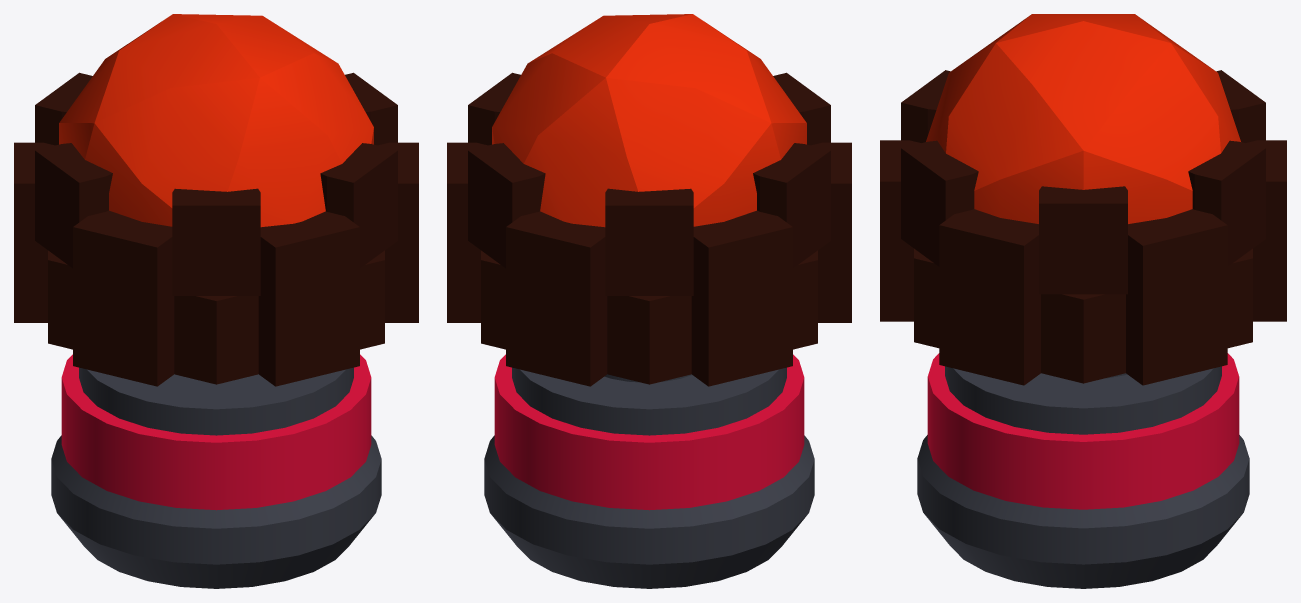
The model's file is tower_the_burning_stone.obj.
The picture shows the model from 3 angles, left to right: view 1: azimuth 30°, elevation 25°; view 2: azimuth 150°, elevation 25°; view 3: azimuth 270°, elevation 25°; orthographic projection.
Visible parts, largest first — view 1: mergedBlocks; view 2: mergedBlocks; view 3: mergedBlocks.
Boxes of the visible parts, box(x1,y1,x2,y2) form: mergedBlocks: box(14, 14, 418, 588); mergedBlocks: box(447, 14, 851, 588); mergedBlocks: box(880, 14, 1286, 588).
Bounding box in the file's own units: 1.16 × 1.62 × 1.18.
